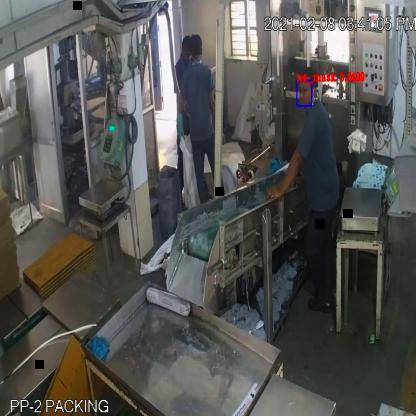no_glove: (267, 135, 305, 206)
